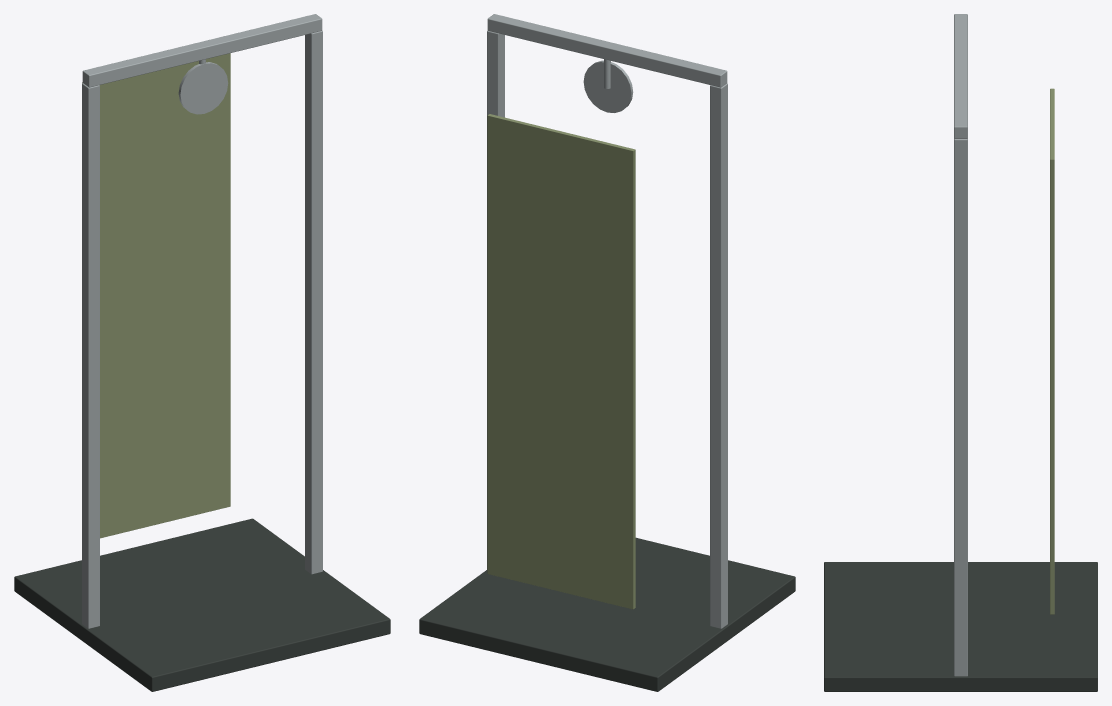
File: field-medicine-and-recovery-decontamination-shower-b8469d60__3067.glb
The picture shows the model from 3 angles, left to right: view 1: azimuth 30°, elevation 25°; view 2: azimuth 150°, elevation 25°; view 3: azimuth 270°, elevation 25°; orthographic projection.
Visible parts, largest first — view 1: decontamination-shower; view 2: decontamination-shower; view 3: decontamination-shower.
Part boxes in pixels (x1,y1,x2,y2): decontamination-shower: (14, 14, 390, 691); decontamination-shower: (419, 14, 795, 691); decontamination-shower: (824, 14, 1097, 691).
Bounding box in the file's own units: 0.9 × 2.05 × 0.9.
